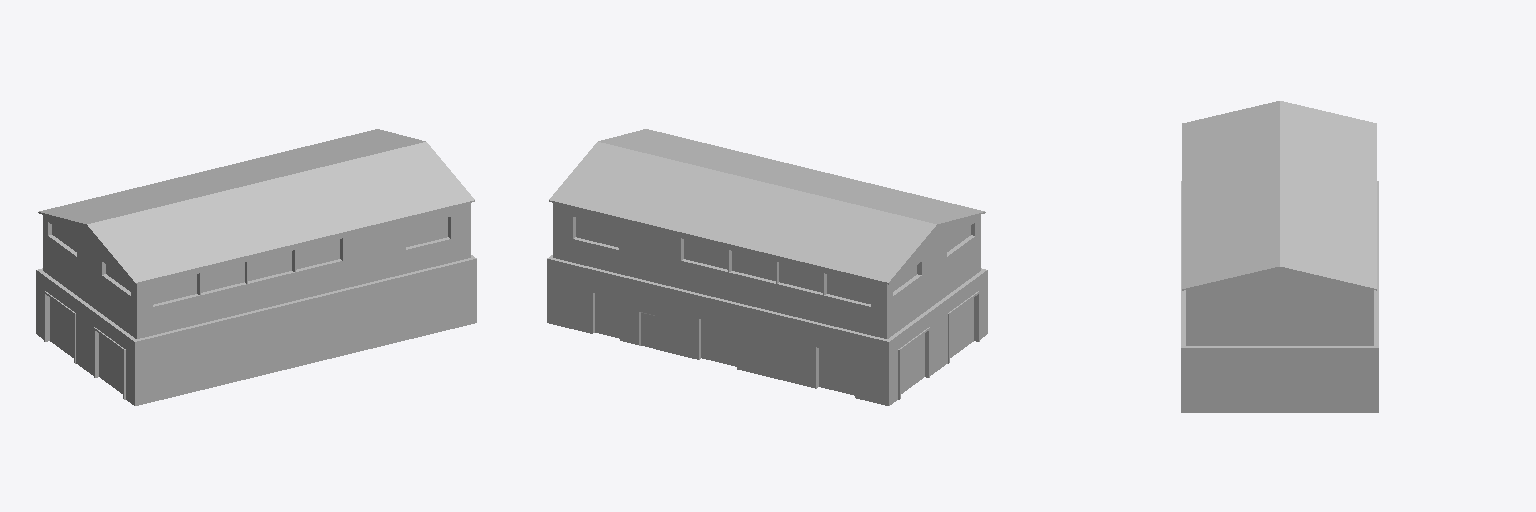
The model's file is Building_11.obj.
The picture shows the model from 3 angles: view 1: azimuth 30°, elevation 25°; view 2: azimuth 150°, elevation 25°; view 3: azimuth 270°, elevation 25°; orthographic projection.
Visible parts, largest first — view 1: Building_11; view 2: Building_11; view 3: Building_11.
Part boxes in pixels (bbox=[...]): Building_11: bbox=[36, 129, 476, 405]; Building_11: bbox=[547, 129, 987, 405]; Building_11: bbox=[1181, 101, 1378, 412].
Size of the model in its own units: 26.59 by 10.78 by 13.23.